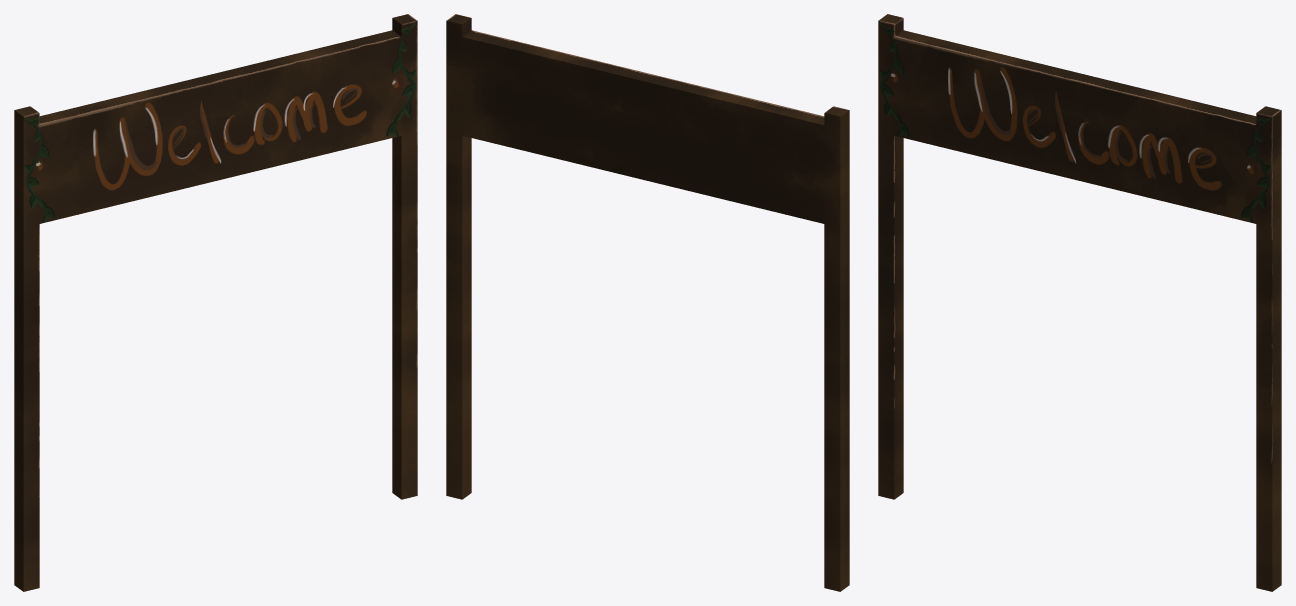
Rendered from Tabela.fbx.
The picture shows the model from 3 angles, left to right: view 1: azimuth 30°, elevation 25°; view 2: azimuth 150°, elevation 25°; view 3: azimuth 330°, elevation 25°; orthographic projection.
Visible parts, largest first — view 1: Cube; view 2: Cube; view 3: Cube.
Boxes of the visible parts, x1,y1,x2,y2 form: Cube: (14,14,417,591); Cube: (446,14,849,591); Cube: (878,14,1281,591).
Size of the model in its own units: 695 by 802 by 28.09.
Materials: 1 (1 with a texture image).
